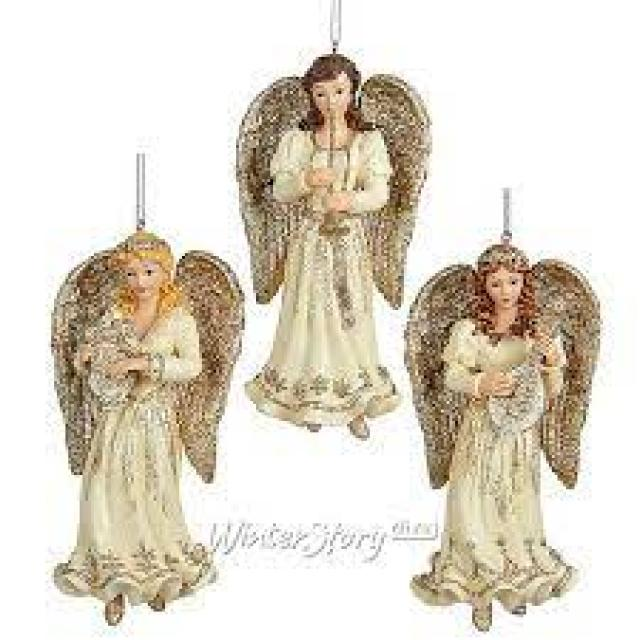angel: (415, 197, 640, 618), (28, 216, 234, 640), (227, 52, 433, 444)
